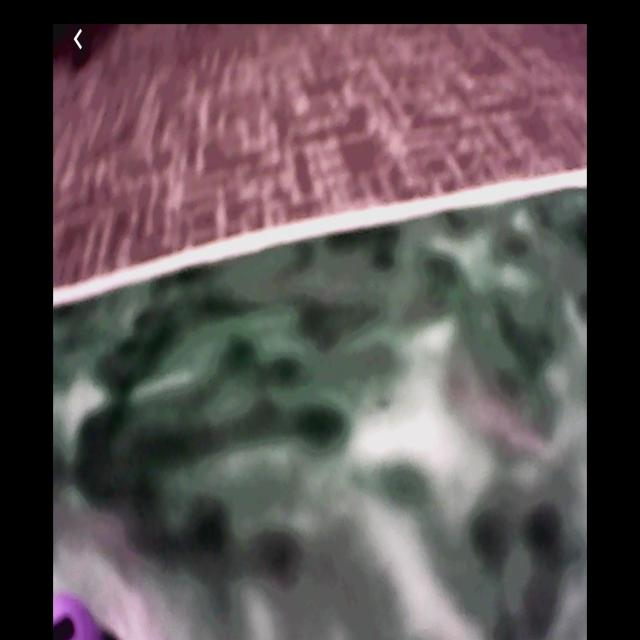ball: (55, 591, 102, 640)
